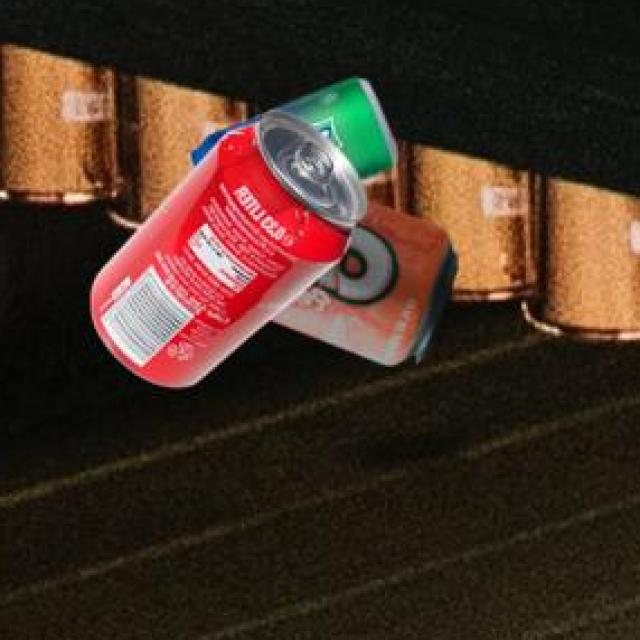logam: (91, 115, 364, 390), (267, 205, 453, 368), (187, 82, 395, 182)
